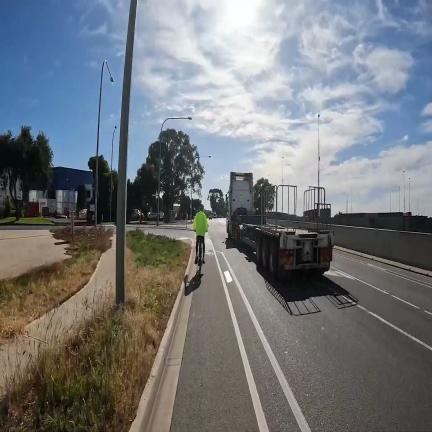Bike_Lane: (170, 253, 259, 432)
